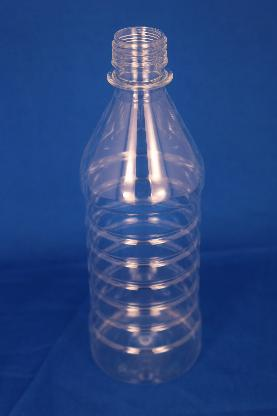Plastic Bottle: (65, 23, 227, 405)
